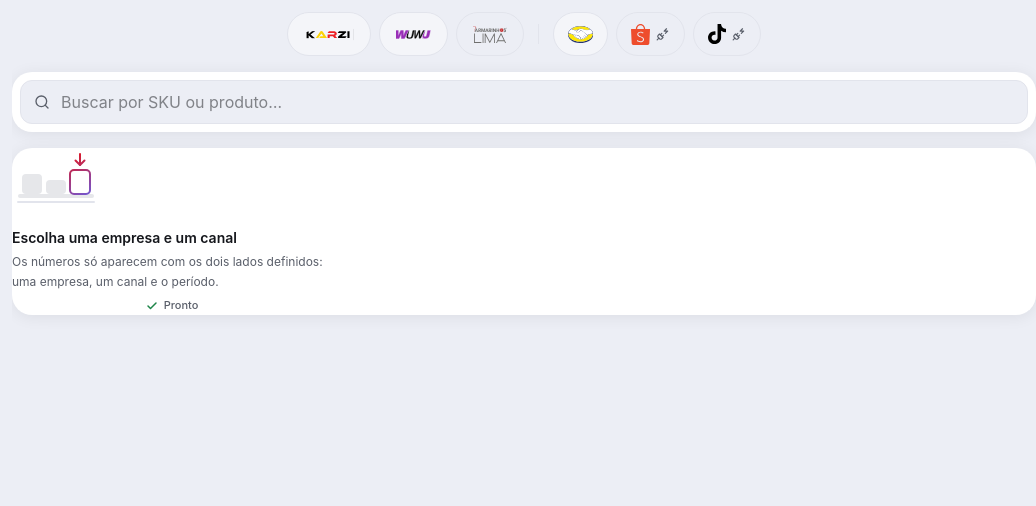
Test case: Estoque — escopo por empresa › canal sozinho não abre a lista — e não acende empresa nenhuma
What coordinates should you click on to do the following:
click the button named "Mercado Livre"
I would click on:
 (581, 34)
Its box is [553, 12, 608, 56].
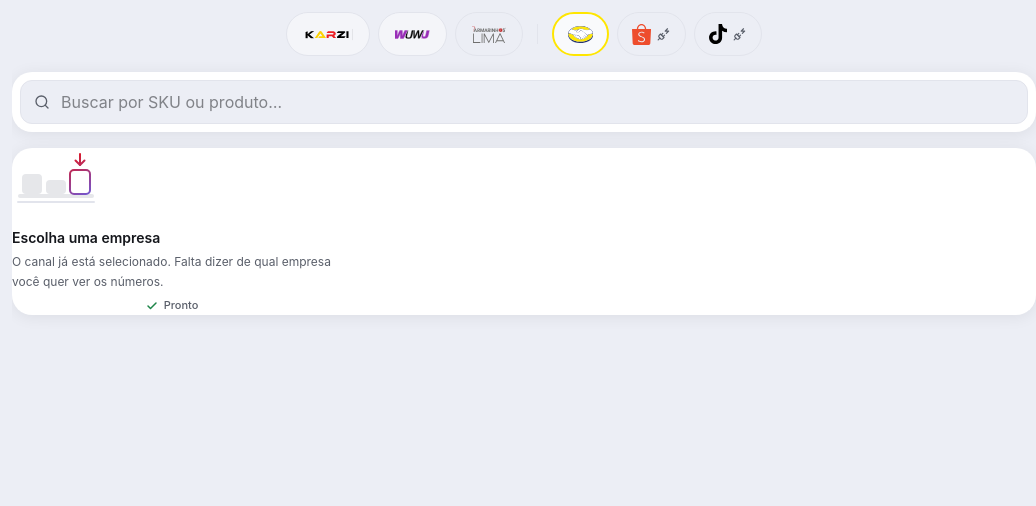
Expected: the element with test id "estoque-escolha-empresa" is shown, [12, 148, 1035, 315]
Note: Com a empresa escolhida à mão, aí sim a lista abre.
What coordinates should you click on to do the following:
click the button named "KARZI"
I would click on:
 (328, 34)
Its box is [286, 12, 370, 56].
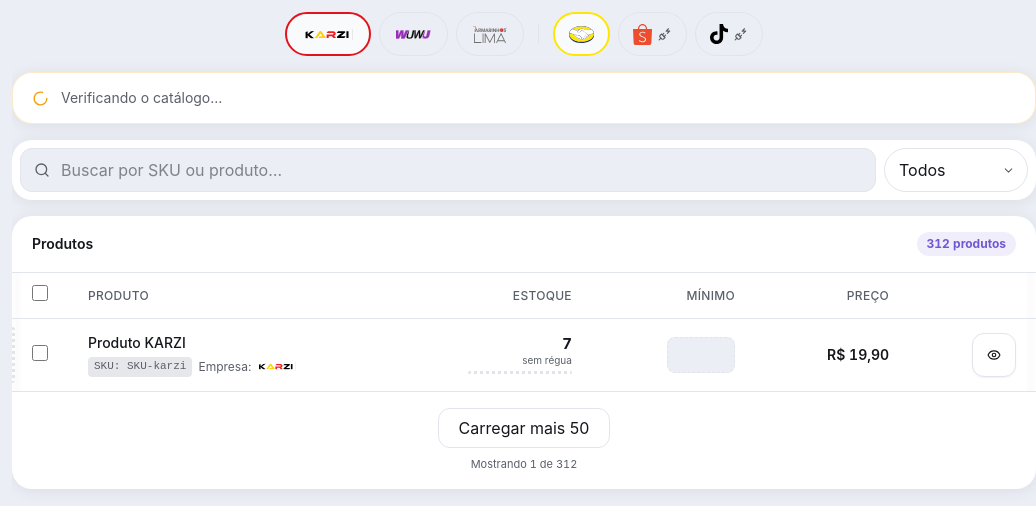
Expected: the element with test id "estoque-table" is shown, [12, 273, 1035, 391]
What coordinates should you click on to do the following:
click the button named "Mercado Livre"
I would click on:
 (582, 34)
Its box is [553, 12, 610, 56].
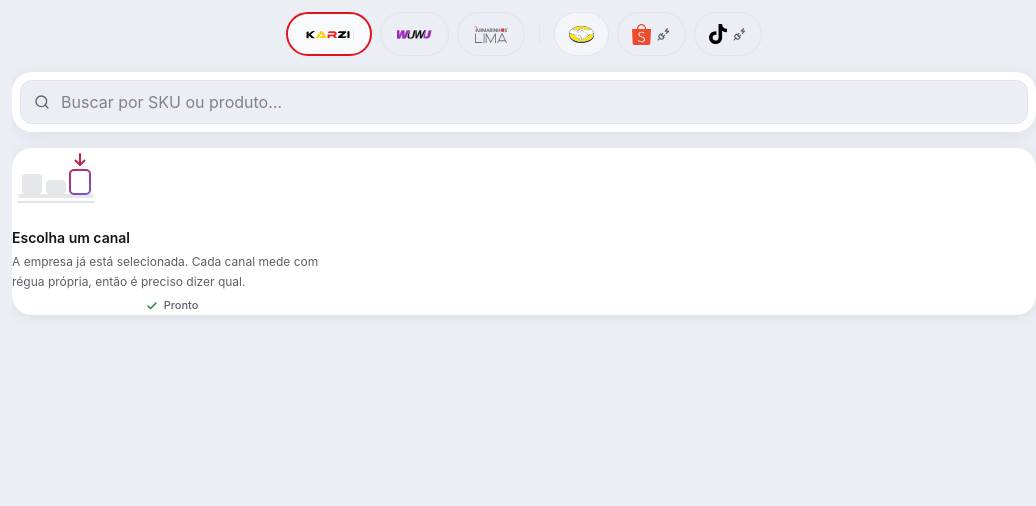
Expected: the element with test id "estoque-escolha-empresa" is shown, [12, 148, 1035, 315]
Expected: the element with test id "estoque-table" is gone
